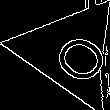O_NW: (32, 19, 105, 84)
